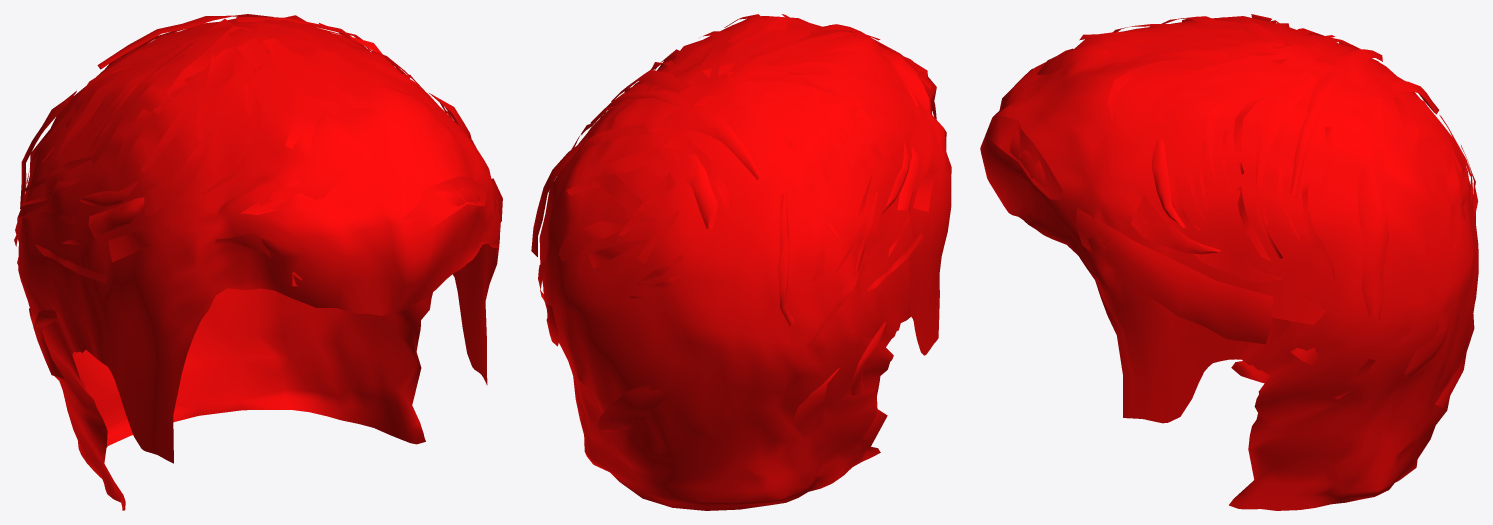
Rendered from culturalibre_hair_02_M.glb.
The picture shows the model from 3 angles, left to right: view 1: azimuth 30°, elevation 25°; view 2: azimuth 150°, elevation 25°; view 3: azimuth 270°, elevation 25°; orthographic projection. The views are drawn at different scales.
Size of the model in its own units: 0.1747 by 0.1989 by 0.2166.
Materials: 1 (1 with a texture image).
